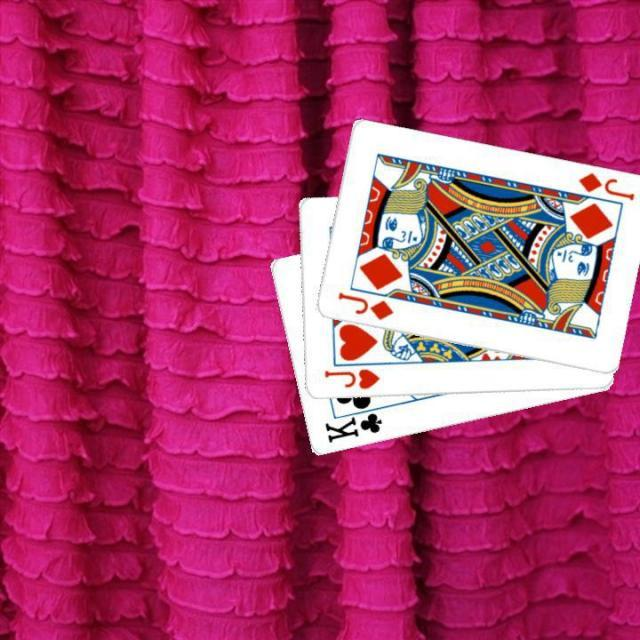JD: (333, 288, 395, 322), (574, 169, 636, 203)
JH: (320, 365, 382, 391)
KC: (321, 402, 387, 446)
